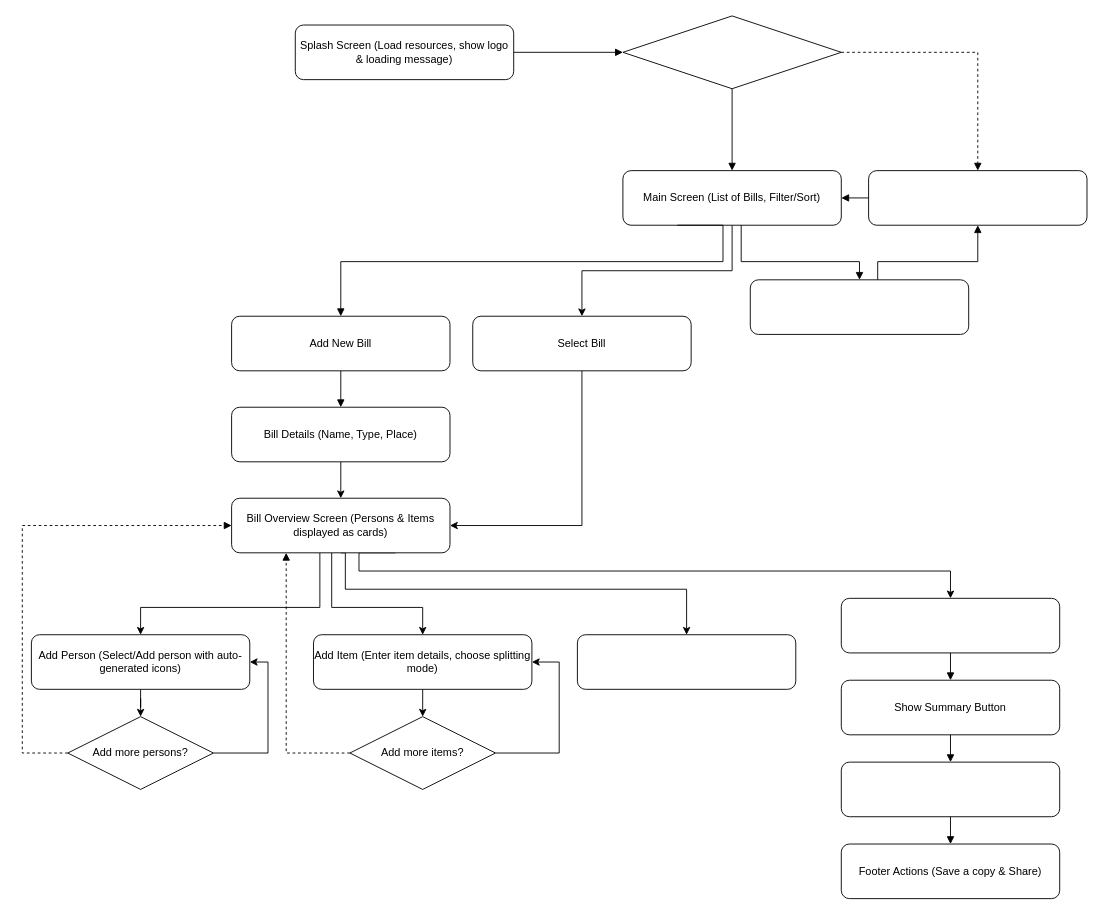
The diagram is 1103 pixels wide and 915 high, and some of its shapes have lost their labels. Here are the shapes that lost their labels. From the top down, the centre of each, then its label:
At (731,52): "User Account Complete?".
At (977,197): "Account Setup (Enter name, choose language, currency, upload/generate icon)".
At (859,306): "Settings Access (Edit account information)".
At (950,625): "Fixed Footer (Bill name, place, date, total amount)".
At (686,661): "Add Special Items (Tip & Tax, with percentage/currency modes)".
At (950,789): "Summary View (Detailed breakdown per person & overall)".
